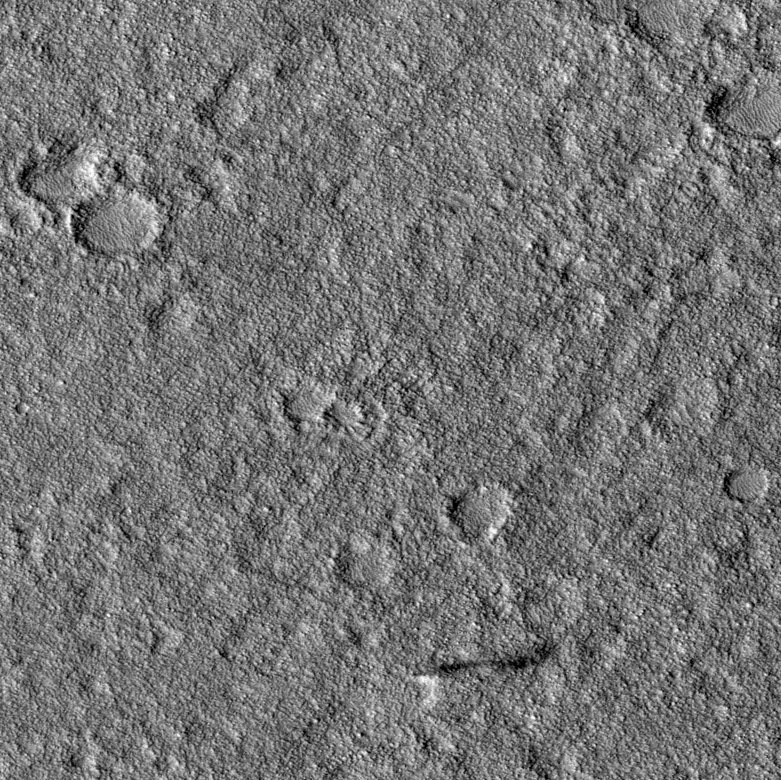dust_devil: (413, 642, 560, 689)
